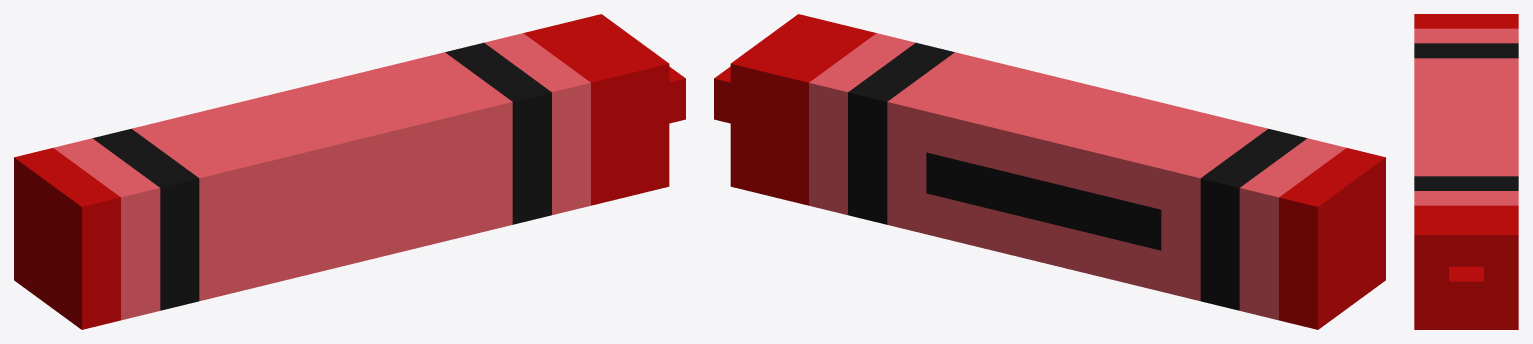
File: Marker.obj
The picture shows the model from 3 angles, left to right: view 1: azimuth 30°, elevation 25°; view 2: azimuth 150°, elevation 25°; view 3: azimuth 270°, elevation 25°; orthographic projection. The views are drawn at different scales.
Visible parts, largest first — view 1: Untitled.076; view 2: Untitled.076; view 3: Untitled.076.
Part boxes in pixels (x1,y1,x2,y2): Untitled.076: (14, 14, 685, 329); Untitled.076: (714, 14, 1385, 329); Untitled.076: (1414, 14, 1518, 329).
Bounding box in the file's own units: 1.6 × 0.3 × 0.3.
